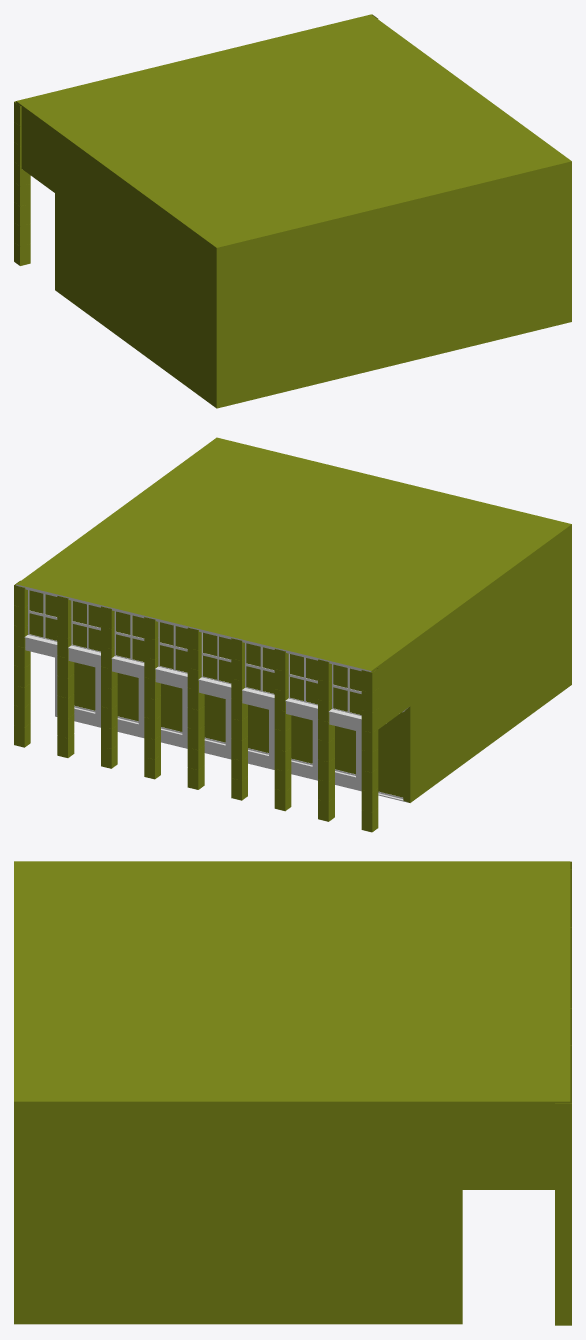
Rendered from 办公区4.glb.
3 renders of one model, top to bottom at view 1: azimuth 30°, elevation 25°; view 2: azimuth 150°, elevation 25°; view 3: azimuth 270°, elevation 25°, orthographic. The views are drawn at different scales.
Visible parts, largest first — view 1: building.003; view 2: building.003; view 3: building.003.
Part boxes in pixels (x1,y1,x2,y2): building.003: [14, 14, 571, 408]; building.003: [14, 437, 571, 832]; building.003: [14, 861, 571, 1325].
Size of the model in its own units: 4.9 by 2.1 by 4.77.
